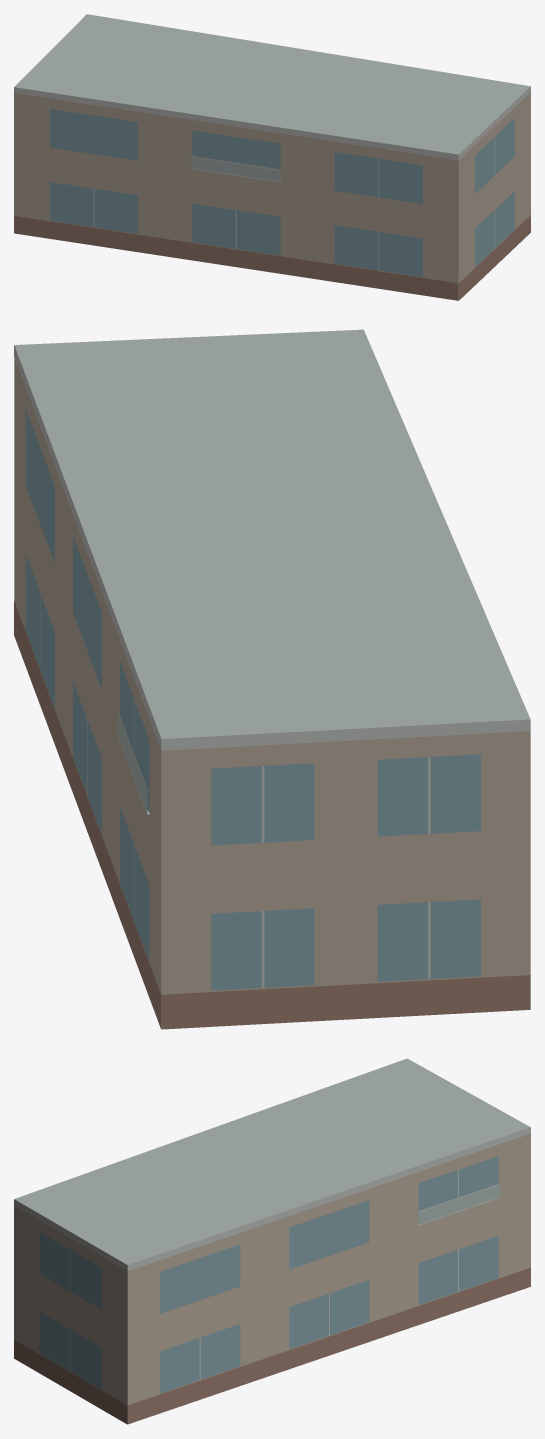
File: survey-upis-32879292.glb
3 renders of one model, top to bottom at view 1: azimuth 30°, elevation 25°; view 2: azimuth 150°, elevation 25°; view 3: azimuth 270°, elevation 25°, orthographic. The views are drawn at different scales.
Visible parts, largest first — view 1: survey-upis-32879292.tmp; view 2: survey-upis-32879292.tmp; view 3: survey-upis-32879292.tmp.
Boxes of the visible parts, box(x1,y1,x2,y2) form: survey-upis-32879292.tmp: box(14, 14, 530, 300); survey-upis-32879292.tmp: box(14, 329, 530, 1029); survey-upis-32879292.tmp: box(14, 1058, 530, 1424).
Size of the model in its own units: 16.97 by 6.1 by 17.93.
